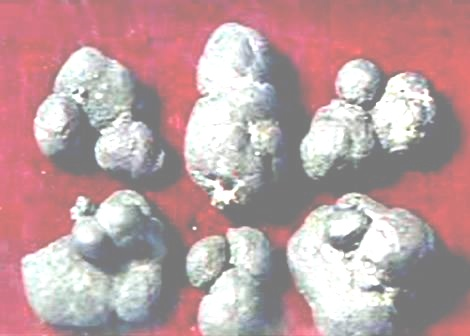halobolite: (285, 187, 463, 336), (18, 188, 183, 332), (184, 17, 288, 210), (35, 47, 172, 186), (299, 53, 432, 184), (184, 218, 273, 336)
